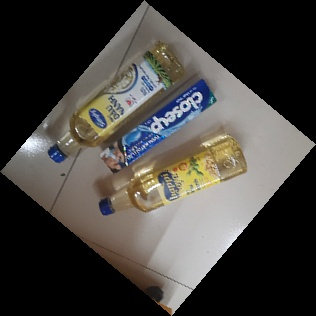CloseUp Tuyet: (100, 79, 217, 175)
Happy Soya: (98, 132, 248, 217)
Simply: (45, 39, 186, 164)
